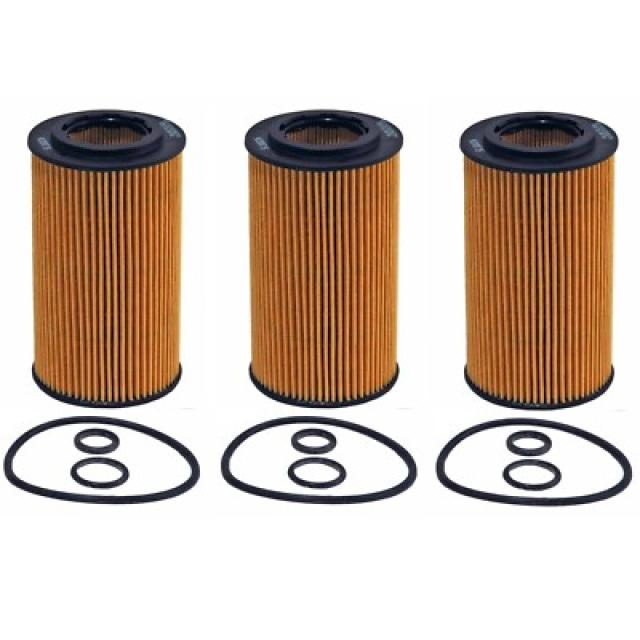oil_filter: (454, 98, 626, 412), (236, 101, 408, 412), (27, 103, 194, 411)
